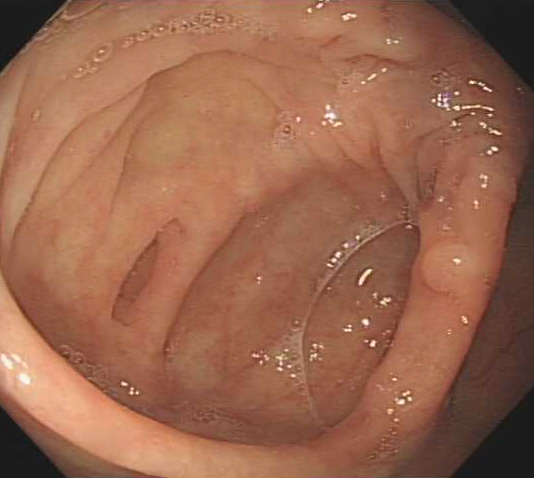others: (419, 237, 482, 296)
